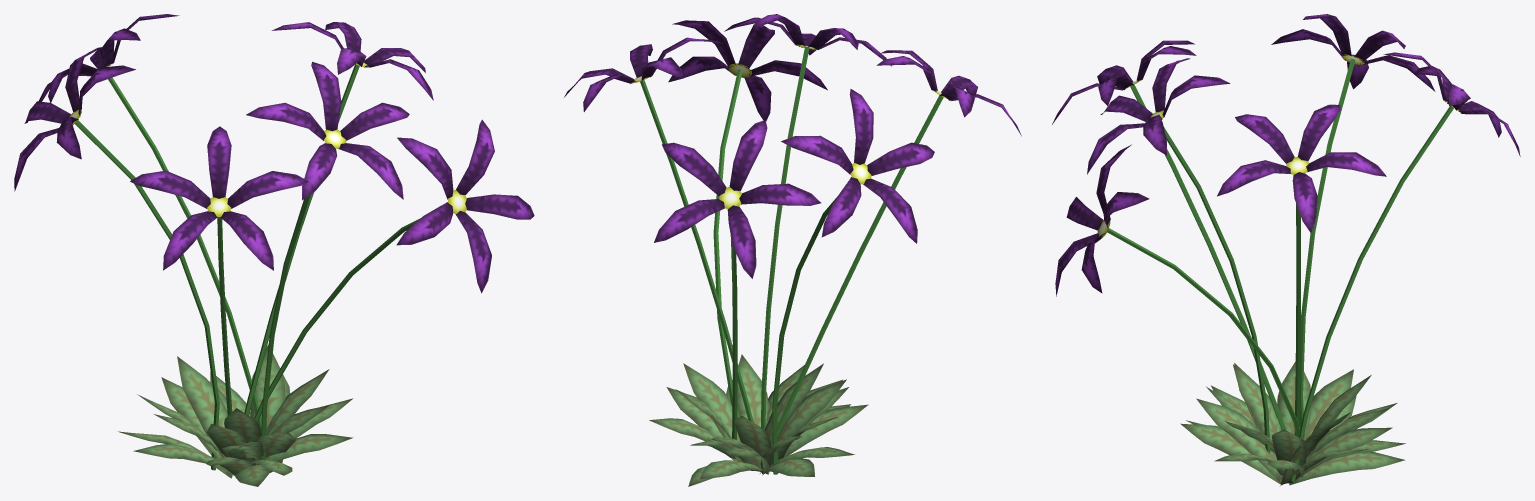
The model's file is planta4.fbx.
3 renders of one model, left to right at view 1: azimuth 30°, elevation 25°; view 2: azimuth 150°, elevation 25°; view 3: azimuth 270°, elevation 25°, orthographic. The views are drawn at different scales.
Visible parts, largest first — view 1: pCylinder11, pPlane87, pCylinder12, pCylinder9, pPlane96, pCylinder14, pPlane97, pPlane94, pPlane98, pPlane99, pPlane118, pPlane120 (+25 smaller); view 2: pCylinder9, pCylinder10, pCylinder13, pCylinder14, pPlane92, pCylinder11, pPlane109, pPlane108, pPlane106, pPlane110, pPlane111, pPlane90 (+25 smaller); view 3: pCylinder12, pCylinder11, pCylinder9, pPlane82, pCylinder10, pCylinder14, pPlane71, pPlane64, pPlane91, pPlane115, pPlane83, pPlane114 (+25 smaller).
Boxes of the visible parts, left/top/right/bottom form: pCylinder11: left=75, top=120, right=219, bottom=470; pPlane87: left=177, top=356, right=227, bottom=456; pCylinder12: left=108, top=77, right=261, bottom=432; pCylinder9: left=260, top=195, right=310, bottom=460; pPlane96: left=207, top=126, right=231, bottom=198; pCylinder14: left=254, top=218, right=420, bottom=422; pPlane97: left=130, top=170, right=210, bottom=208; pPlane94: left=227, top=171, right=308, bottom=208; pPlane98: left=163, top=211, right=217, bottom=270; pPlane99: left=220, top=211, right=273, bottom=270; pPlane118: left=465, top=194, right=534, bottom=219; pPlane120: left=456, top=119, right=494, bottom=194; pCylinder9: left=761, top=47, right=809, bottom=429; pCylinder10: left=770, top=95, right=943, bottom=446; pCylinder13: left=640, top=80, right=753, bottom=422; pCylinder14: left=713, top=69, right=742, bottom=418; pPlane92: left=683, top=363, right=742, bottom=462; pCylinder11: left=772, top=196, right=837, bottom=474; pPlane109: left=662, top=142, right=726, bottom=196; pPlane108: left=729, top=120, right=767, bottom=190; pPlane106: left=739, top=183, right=821, bottom=205; pPlane110: left=654, top=199, right=724, bottom=242; pPlane111: left=727, top=205, right=756, bottom=278; pPlane90: left=777, top=379, right=846, bottom=441; pCylinder12: left=1290, top=106, right=1453, bottom=481; pCylinder11: left=1299, top=58, right=1355, bottom=437; pCylinder9: left=1164, top=127, right=1270, bottom=453; pPlane82: left=1196, top=398, right=1282, bottom=482; pCylinder10: left=1130, top=84, right=1286, bottom=430; pCylinder14: left=1107, top=228, right=1299, bottom=436; pPlane71: left=1289, top=451, right=1405, bottom=485; pPlane64: left=1180, top=423, right=1281, bottom=484; pPlane91: left=1233, top=364, right=1281, bottom=456; pPlane115: left=1235, top=114, right=1294, bottom=163; pPlane83: left=1291, top=427, right=1392, bottom=483; pPlane114: left=1297, top=104, right=1340, bottom=160.
Bounding box in the file's own units: 0.9766 × 1.03 × 1.06.
